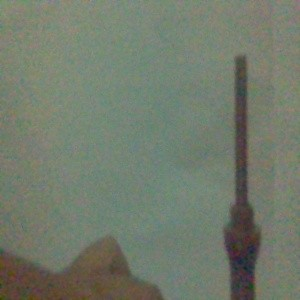obeng: (223, 53, 263, 300)
